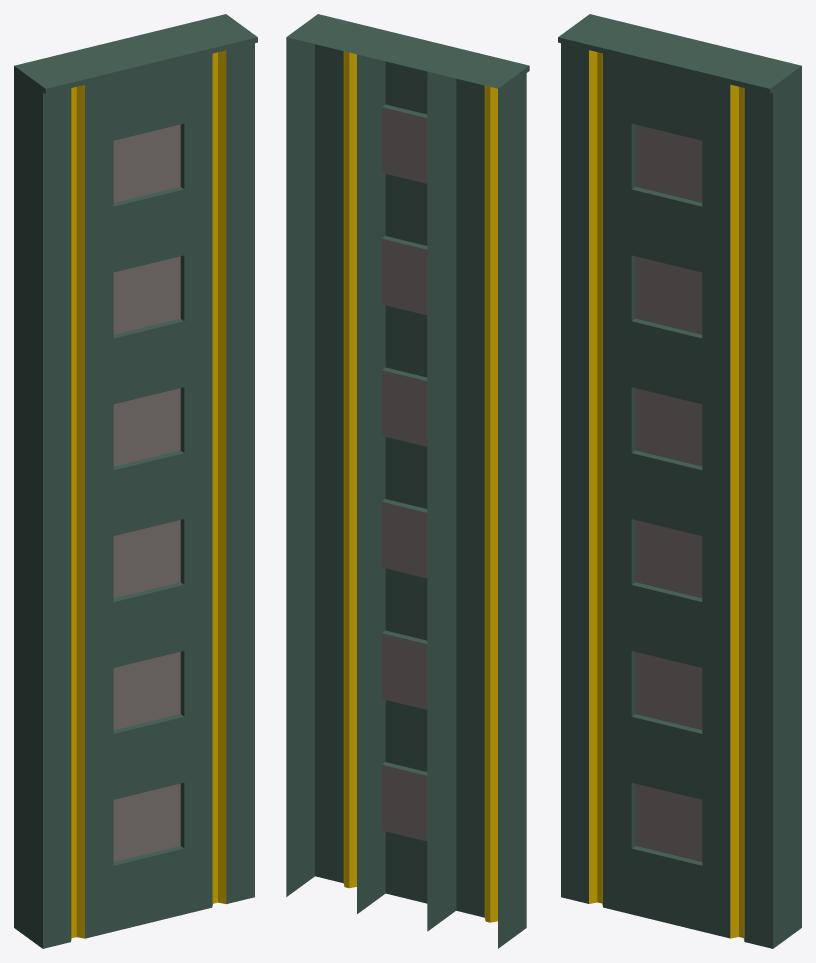
The picture shows the model from 3 angles, left to right: view 1: azimuth 30°, elevation 25°; view 2: azimuth 150°, elevation 25°; view 3: azimuth 330°, elevation 25°; orthographic projection.
Visible parts, largest first — view 1: Column.041; view 2: Column.041; view 3: Column.041.
Part boxes in pixels (x1,y1,x2,y2): Column.041: (14, 14, 257, 948); Column.041: (286, 14, 529, 948); Column.041: (558, 14, 801, 948).
Size of the model in its own units: 835 by 3245 by 217.
